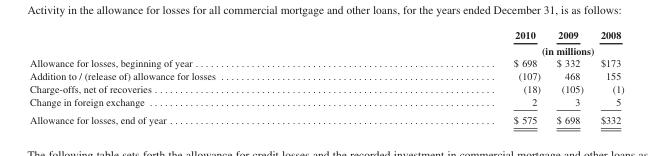table: (29, 28, 623, 124)
table column: (29, 28, 363, 124), (363, 28, 547, 124), (547, 28, 591, 124), (591, 28, 623, 124)
table column header: (29, 28, 623, 56)
table row: (29, 94, 623, 110), (29, 28, 623, 42), (29, 42, 623, 56), (29, 110, 623, 124), (29, 56, 623, 69), (29, 69, 623, 82), (29, 82, 623, 94)
table spanning cell: (363, 42, 623, 56)
